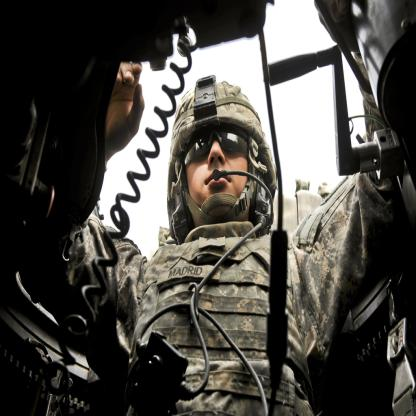Helmet: (166, 81, 278, 248)
